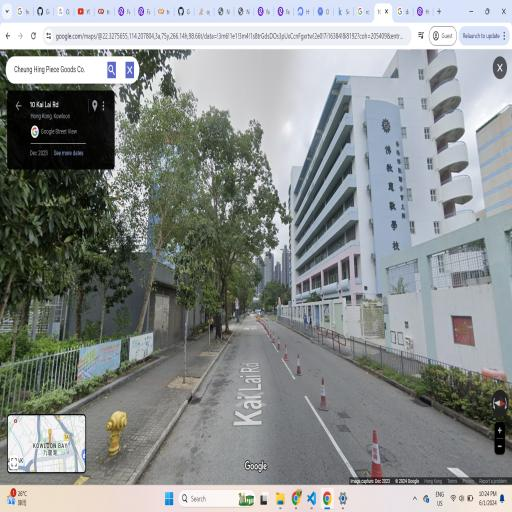Roads: (148, 308, 504, 483)
Trees: (138, 86, 246, 353)
